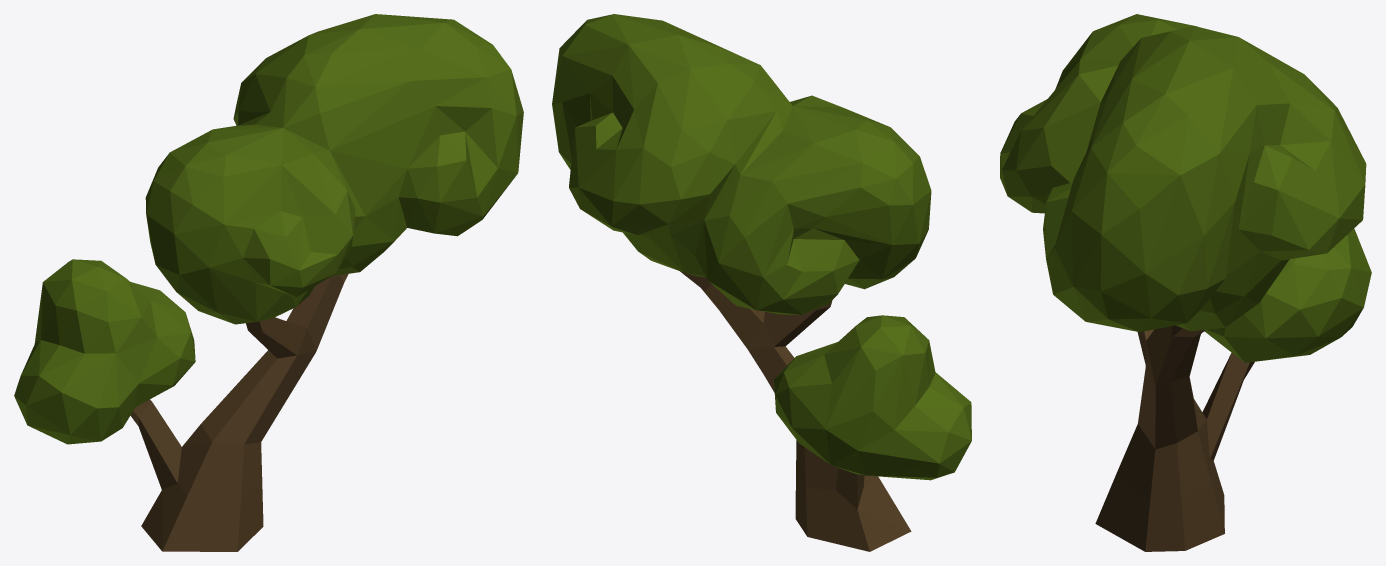
Rendered from TreesAndBushes_089.fbx.
3 renders of one model, left to right at view 1: azimuth 30°, elevation 25°; view 2: azimuth 150°, elevation 25°; view 3: azimuth 270°, elevation 25°, orthographic. The views are drawn at different scales.
Visible parts, largest first — view 1: TreesAndBushes_089; view 2: TreesAndBushes_089; view 3: TreesAndBushes_089.
Part boxes in pixels (box(x1,y1,x2,y2)): TreesAndBushes_089: box(14, 14, 523, 551); TreesAndBushes_089: box(552, 14, 971, 551); TreesAndBushes_089: box(1000, 14, 1371, 551).
Bounding box in the file's own units: 120 × 118 × 68.25.
